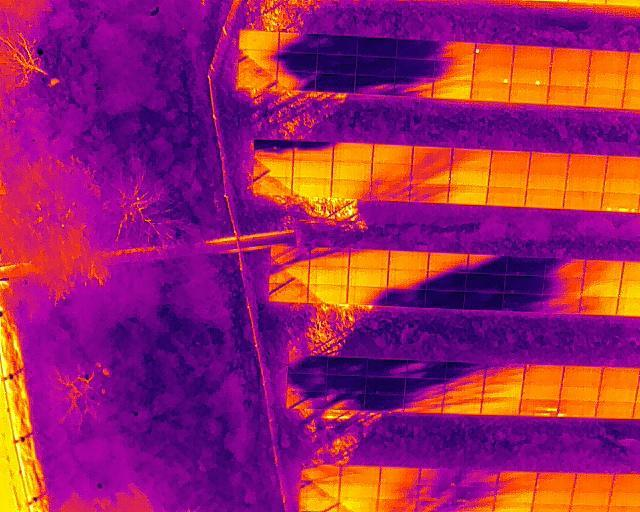Cell: (473, 62, 511, 84), (512, 64, 550, 86), (475, 43, 513, 63), (558, 401, 597, 418)
Cell-Multi: (602, 193, 640, 213), (519, 399, 558, 417)
No-Anomaly: (334, 141, 373, 163), (487, 188, 528, 208), (550, 67, 591, 87), (372, 144, 412, 164), (530, 151, 570, 171), (523, 366, 565, 385), (588, 68, 626, 89), (548, 86, 587, 106), (389, 251, 430, 270), (309, 266, 349, 285), (348, 269, 388, 288), (433, 80, 473, 99), (569, 155, 605, 176), (489, 169, 528, 188), (293, 180, 332, 199), (350, 249, 389, 268), (510, 85, 549, 104), (586, 89, 625, 108), (239, 32, 280, 50), (255, 159, 293, 178), (528, 172, 566, 191), (527, 190, 565, 209), (472, 84, 510, 103), (604, 174, 640, 194), (449, 186, 486, 205), (491, 150, 530, 168), (450, 168, 489, 186), (254, 178, 293, 196), (309, 285, 348, 303), (513, 46, 552, 64), (590, 50, 629, 68), (333, 162, 371, 180), (566, 175, 604, 193), (582, 278, 620, 296), (581, 297, 619, 315), (602, 368, 638, 387), (561, 385, 599, 403), (481, 398, 519, 416), (551, 49, 589, 67), (293, 162, 333, 179), (340, 465, 380, 482), (574, 473, 614, 490), (564, 192, 601, 210), (564, 367, 601, 385), (537, 472, 574, 490), (332, 181, 371, 198), (380, 466, 419, 483), (340, 483, 379, 500), (585, 260, 623, 277), (522, 384, 560, 401), (496, 486, 534, 503), (600, 387, 639, 403), (499, 470, 537, 486), (535, 490, 573, 506), (607, 156, 640, 174), (597, 403, 636, 418), (572, 490, 610, 505)
Shadowing: (271, 245, 310, 267), (238, 69, 278, 90), (317, 35, 358, 55), (452, 148, 491, 169), (372, 164, 411, 185), (288, 354, 327, 375), (254, 140, 294, 160), (294, 142, 334, 162), (411, 165, 451, 185), (544, 258, 584, 278), (435, 59, 473, 80), (388, 269, 427, 289), (428, 271, 467, 291), (327, 375, 366, 395), (412, 147, 453, 166), (395, 39, 436, 58), (311, 246, 351, 265), (327, 356, 367, 375), (446, 362, 486, 381), (406, 378, 446, 397), (277, 53, 317, 72), (317, 55, 357, 74), (396, 59, 436, 78), (371, 182, 410, 201), (409, 184, 448, 203), (430, 253, 469, 272), (468, 255, 507, 274), (270, 284, 309, 303), (388, 288, 427, 307), (357, 37, 396, 56), (357, 56, 396, 75), (467, 274, 505, 293), (505, 276, 543, 295), (278, 71, 316, 90), (347, 287, 387, 305), (367, 359, 407, 377), (287, 375, 327, 393), (366, 377, 406, 395), (279, 34, 319, 52), (239, 50, 279, 68), (316, 73, 356, 91), (271, 267, 310, 285), (465, 291, 504, 309), (301, 465, 340, 483), (436, 41, 475, 59), (356, 76, 395, 94), (379, 483, 420, 500), (506, 257, 544, 275), (407, 360, 445, 378), (287, 393, 327, 410), (443, 399, 483, 416), (544, 278, 583, 295), (484, 382, 523, 399), (404, 397, 443, 414), (300, 483, 339, 500), (426, 291, 464, 308), (486, 365, 524, 382), (445, 382, 483, 399), (327, 394, 365, 411), (395, 78, 433, 95), (504, 294, 544, 310), (420, 468, 460, 484), (543, 295, 582, 311), (365, 395, 404, 411), (460, 470, 499, 486), (420, 484, 459, 500), (459, 486, 496, 501)
